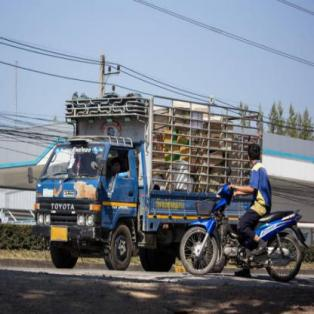Motocicleta: (178, 184, 308, 288)
